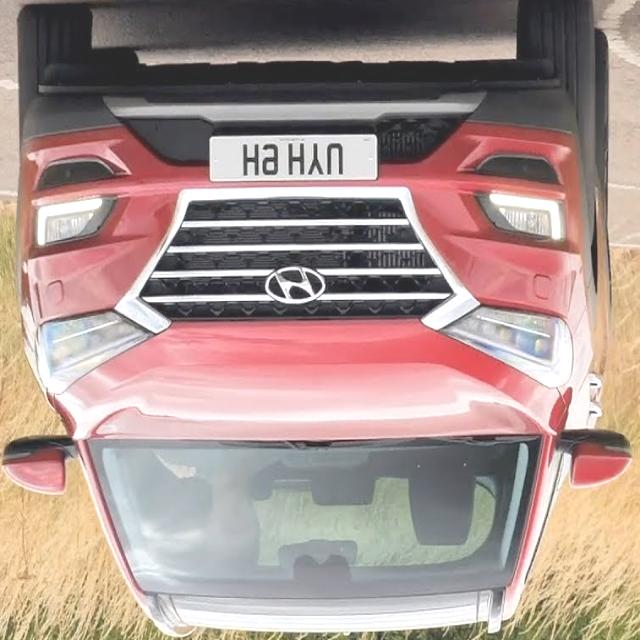red: (17, 63, 609, 640)
